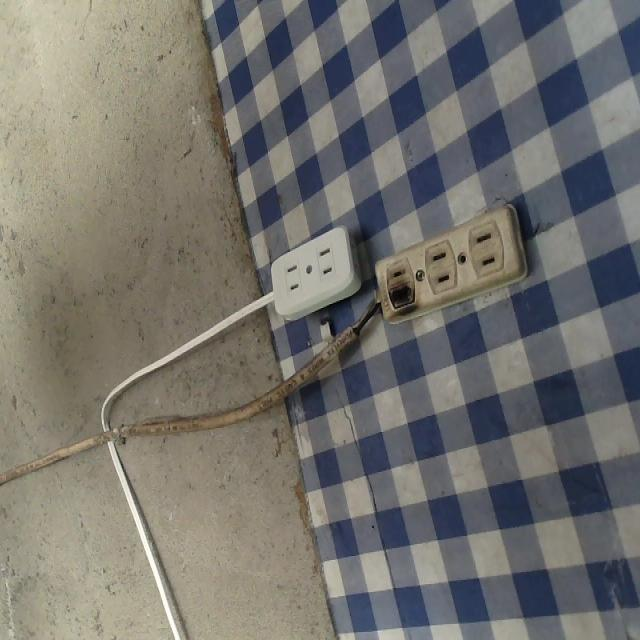-: (383, 273, 416, 316)
